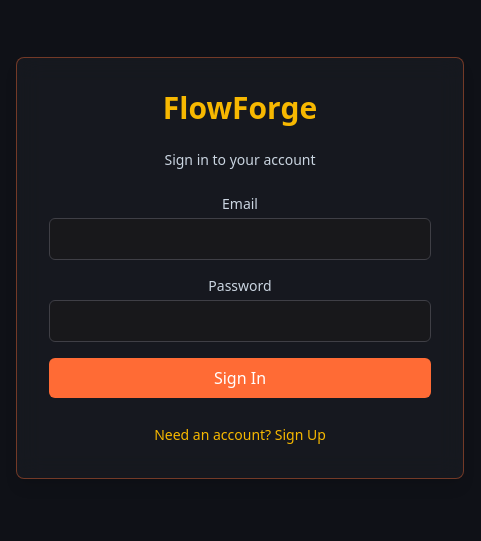
Test: LoginPage › toggles to sign-up form and shows confirm password
Click the button "Need an account? Sign Up".
click(240, 435)  # box [154,425,326,445]
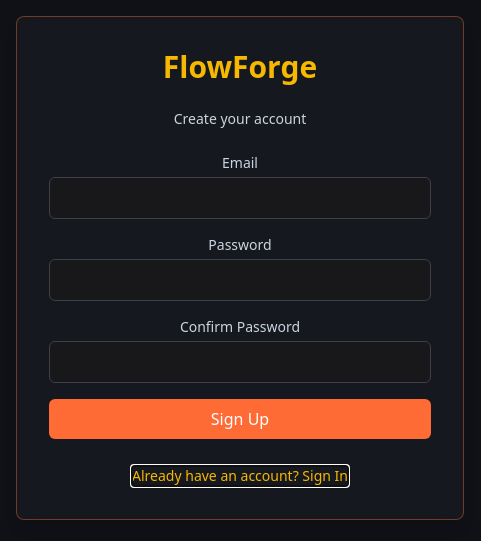
Expected: the password field labelled "Confirm Password" is shown, [49,341,431,383]
Expected: the button "Sign Up" is shown, [49,399,431,439]
